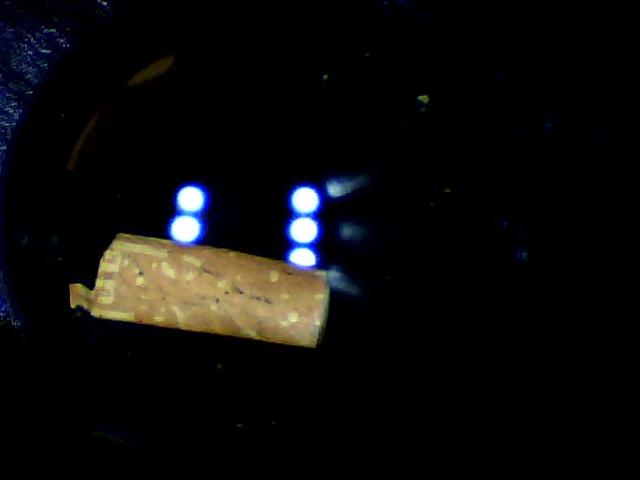megot: (60, 228, 344, 357)
